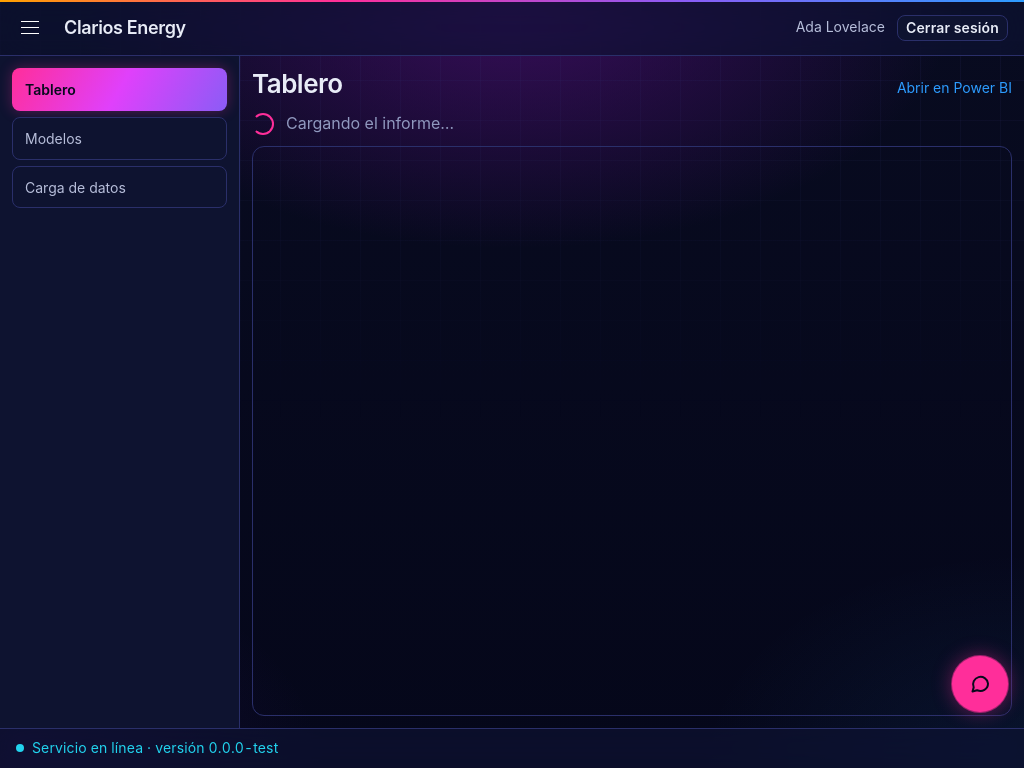
Test: the app shell › moves between the sections
This screenshot has width=1024, height=768.
Click the link "Carga de datos": (120, 187) [12,166,227,208]
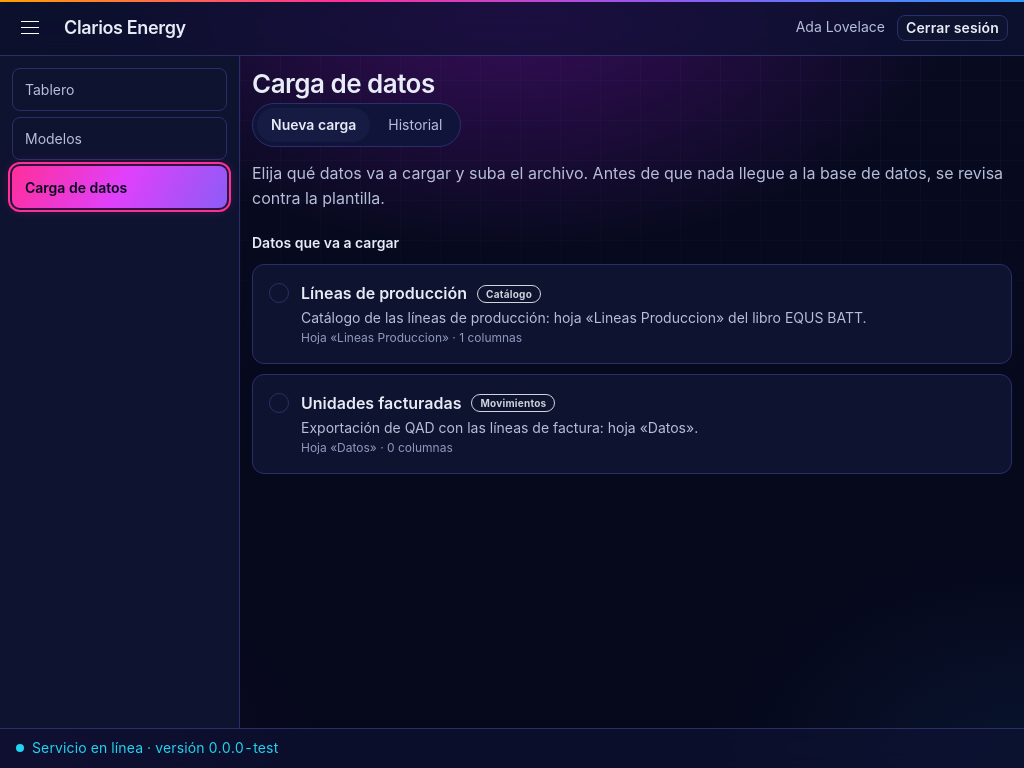
Expected: the heading "Carga de datos" is shown, [252,68,435,99]
Expected: the text "Elija qué datos va a cargar y suba el archivo. Antes de que nada llegue a la base de datos, se revisa contra la plantill" is shown, [252,163,1003,208]
Click the link "Tablero": (120, 89) [12,68,227,111]
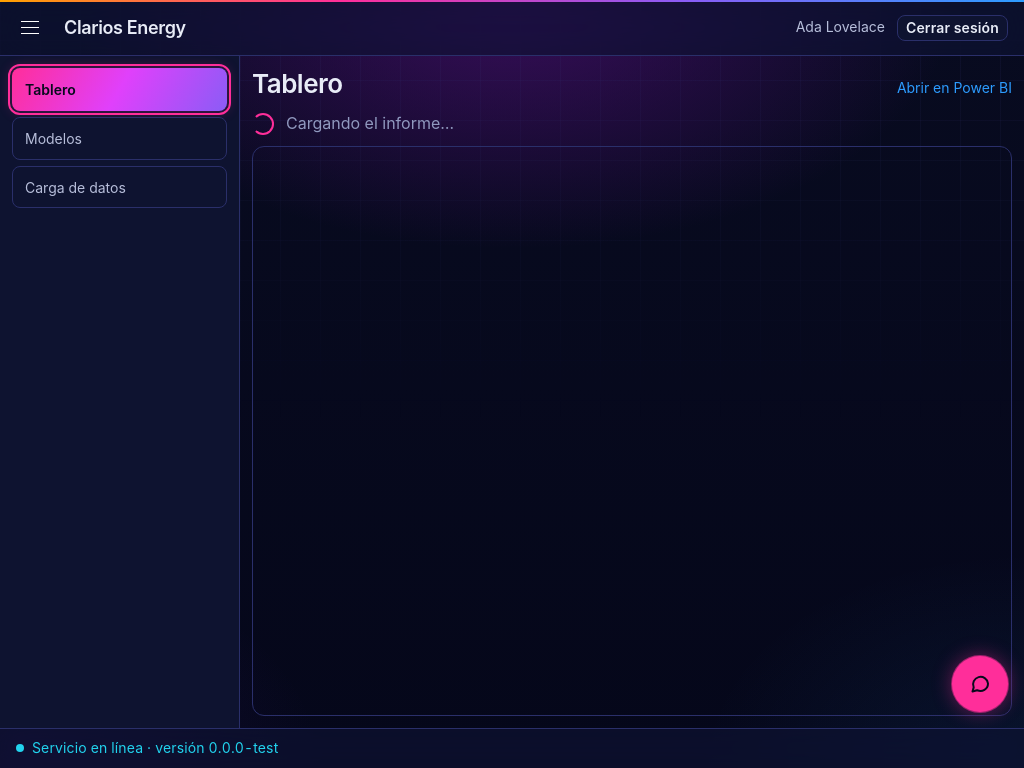
Expected: the heading "Tablero" is shown, [252,68,342,99]
